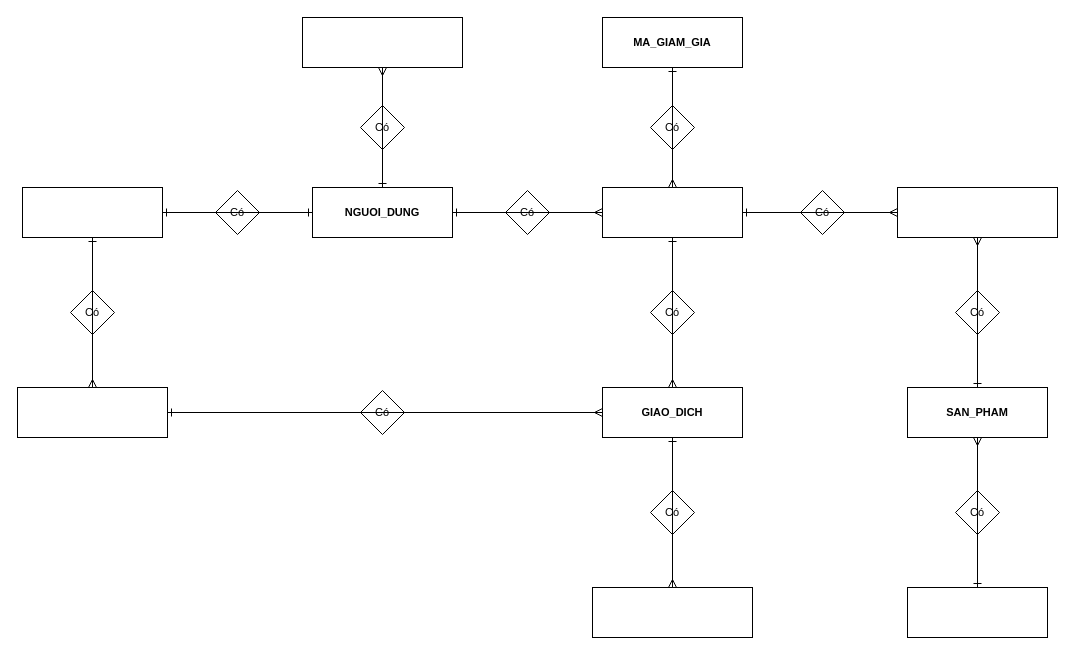
Image size: 1075x655. Some labels were removed from this diagram. Each missing label, with the box of its shape:
CHI_TIET_DON_HANG: (896, 186, 1058, 238)
CONG_THANH_TOAN: (16, 386, 168, 438)
CUA_HANG: (22, 186, 162, 238)
DANH_MUC: (906, 586, 1048, 638)
DIA_CHI_GIAO_HANG: (302, 16, 462, 68)
DON_HANG: (602, 186, 742, 238)
NHAT_KY_WEBHOOK: (592, 586, 752, 638)
